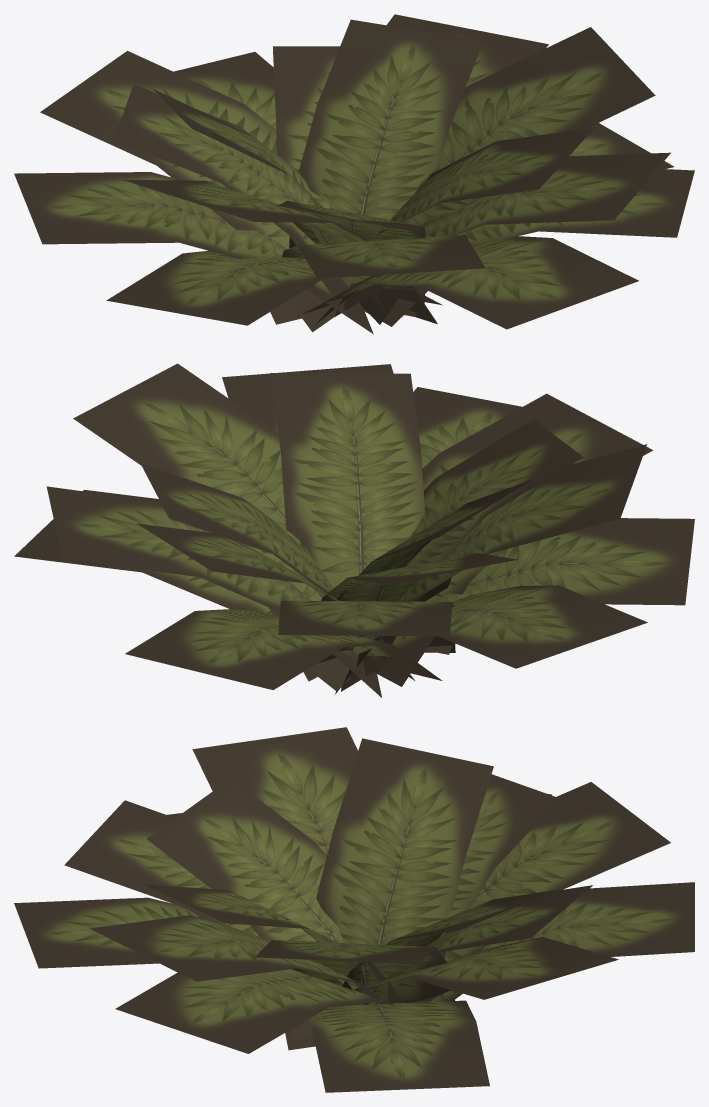
Rendered from fern_03.FBX.
3 views of the same model, one above another, from view 1: azimuth 30°, elevation 25°; view 2: azimuth 150°, elevation 25°; view 3: azimuth 270°, elevation 25° (orthographic). The views are drawn at different scales.
Visible parts, largest first — view 1: fern_03; view 2: fern_03; view 3: fern_03.
Boxes of the visible parts, x1,y1,x2,y2 form: fern_03: [14, 14, 694, 334]; fern_03: [14, 363, 694, 697]; fern_03: [14, 727, 694, 1092].
Bounding box in the file's own units: 68.83 × 24.5 × 70.04.
